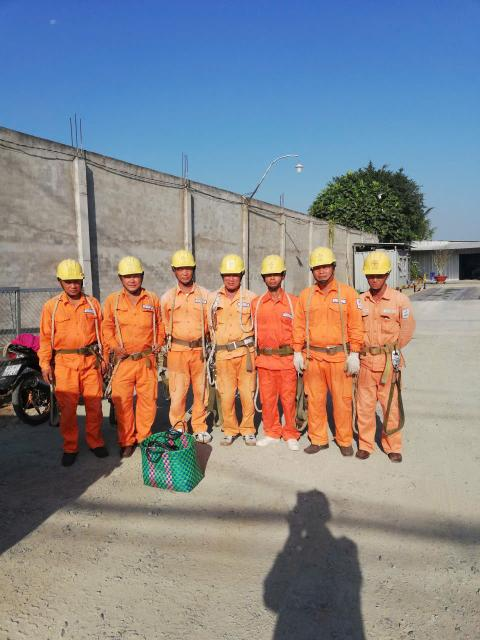gloves: (343, 348, 362, 374), (294, 351, 308, 375)
harness: (360, 337, 402, 359), (51, 342, 102, 360), (112, 347, 162, 364), (165, 333, 214, 349), (313, 340, 355, 358), (208, 340, 259, 352), (261, 344, 299, 360)
helmet: (210, 251, 248, 281), (104, 257, 149, 281), (303, 239, 337, 270), (362, 250, 394, 278), (53, 258, 85, 283), (256, 255, 288, 279), (162, 253, 202, 271)
shoes: (52, 449, 84, 467), (302, 440, 336, 456), (117, 438, 139, 462), (258, 424, 282, 446), (356, 440, 375, 464), (194, 425, 212, 448), (281, 432, 301, 452), (220, 425, 237, 448), (91, 441, 109, 461), (337, 439, 355, 459), (240, 429, 257, 448), (297, 436, 318, 451), (392, 446, 407, 464)
